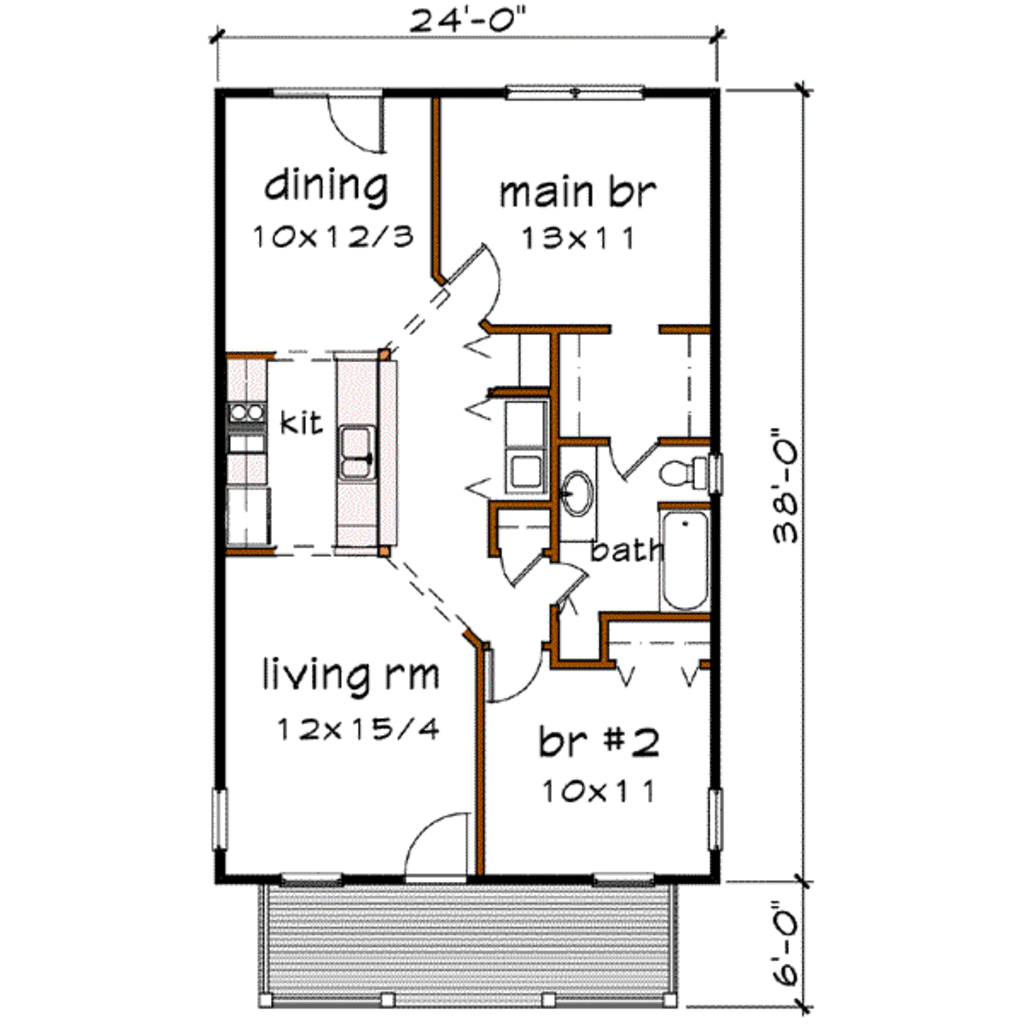door: (400, 782, 473, 883), (320, 86, 398, 172), (435, 233, 499, 321), (531, 546, 598, 611), (489, 536, 556, 585), (606, 428, 663, 480)
large_sink: (648, 442, 734, 502)
small_sink: (564, 441, 594, 539)
tub: (650, 492, 708, 627)
twin_sink: (339, 416, 394, 486)
window: (502, 64, 663, 117), (283, 855, 375, 896), (692, 774, 736, 849), (213, 771, 241, 858), (584, 863, 677, 882)
